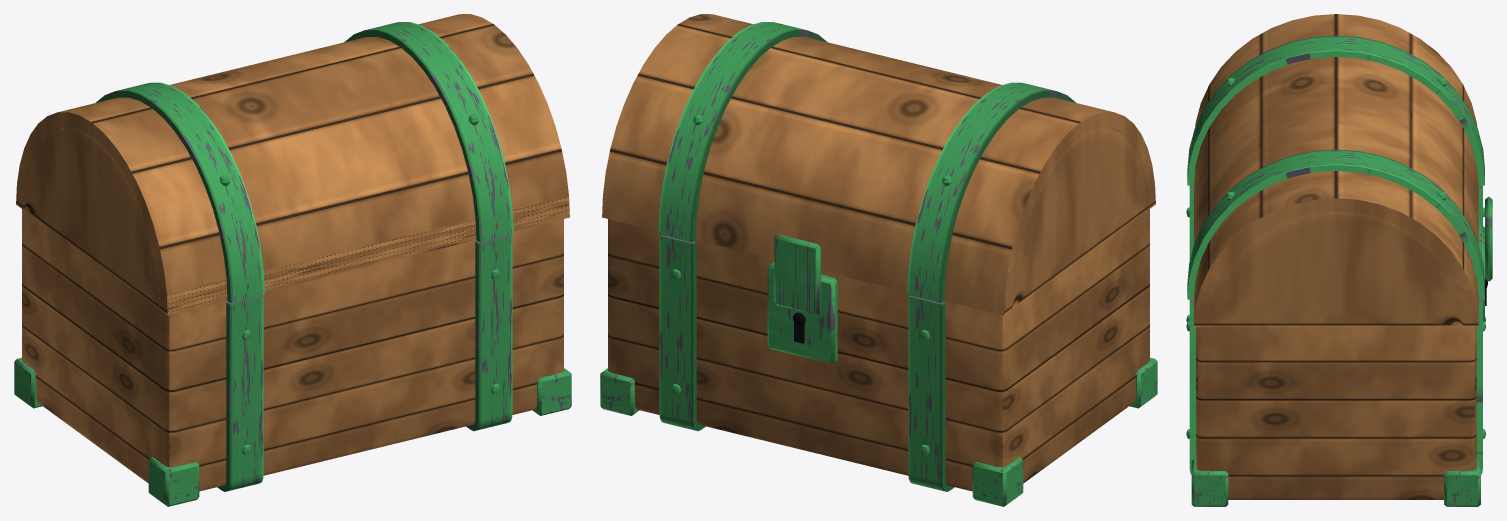
The model's file is Chest_Uncommon.fbx.
3 views of the same model, side by side, from view 1: azimuth 30°, elevation 25°; view 2: azimuth 150°, elevation 25°; view 3: azimuth 270°, elevation 25° (orthographic). The views are drawn at different scales.
Parts seen in each view (by area): view 1: Lid, Base; view 2: Lid, Base; view 3: Lid, Base.
Part boxes in pixels (<box>): Lid: <box>16,14,569,315</box>; Base: <box>14,209,571,506</box>; Lid: <box>602,14,1155,315</box>; Base: <box>600,209,1157,506</box>; Lid: <box>1187,14,1492,327</box>; Base: <box>1186,185,1487,506</box>.
Bounding box in the file's own units: 4.08 × 3.24 × 2.84.
Materials: 1 (1 with a texture image).
